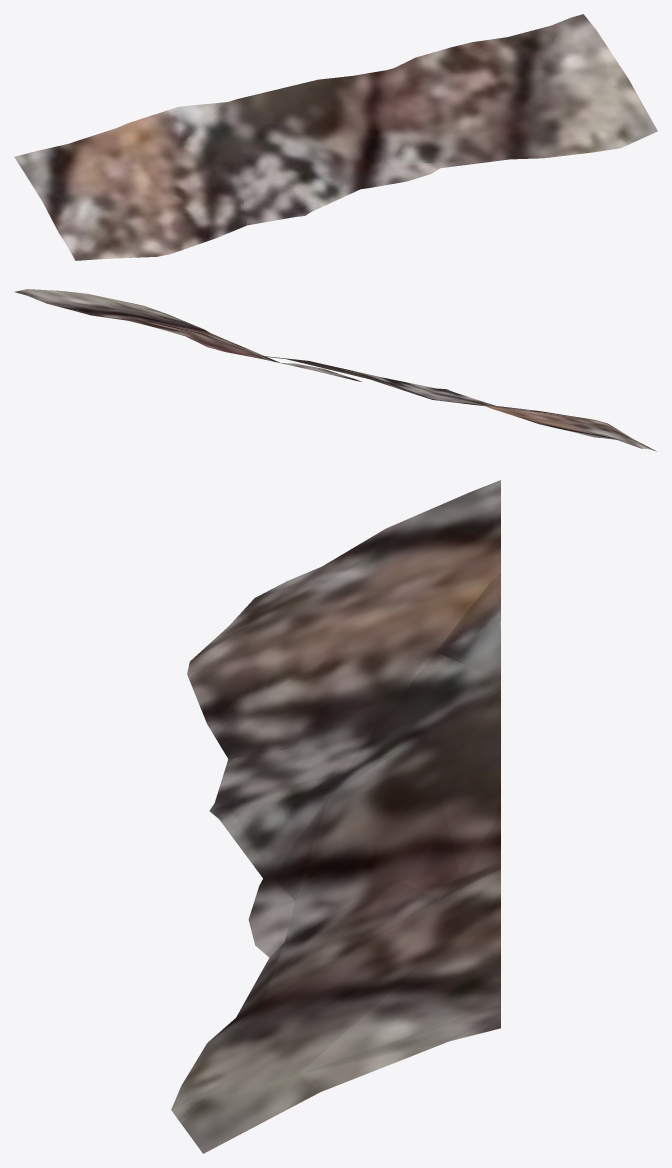
3 renders of one model, top to bottom at view 1: azimuth 30°, elevation 25°; view 2: azimuth 150°, elevation 25°; view 3: azimuth 270°, elevation 25°, orthographic. The views are drawn at different scales.
Size of the model in its own units: 0.8374 by 0.0968 by 0.2099.
Materials: 1 (1 with a texture image).
